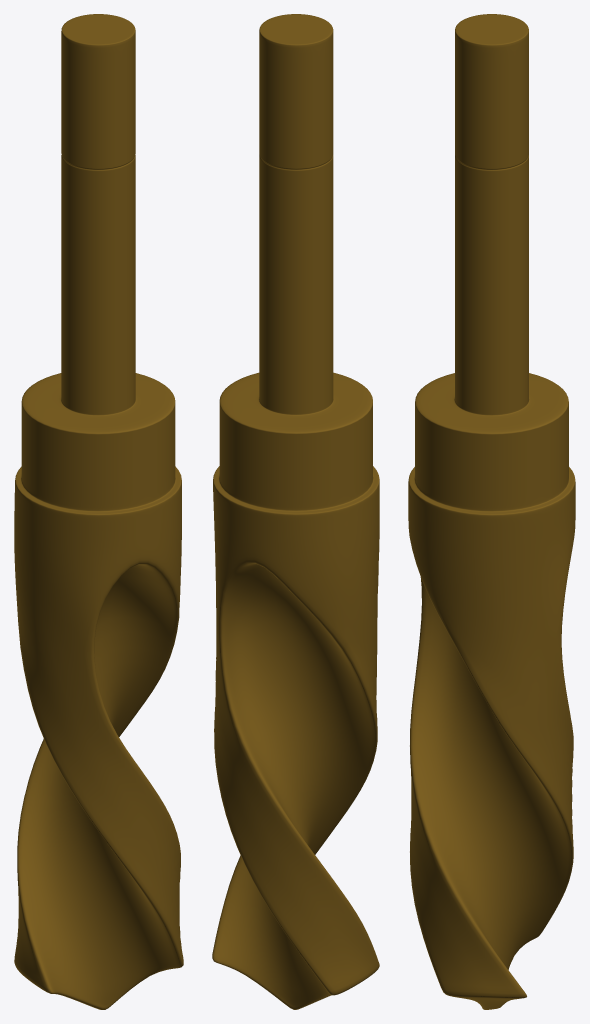
The model's file is 13063_drill_bit_v1_l3.obj.
3 views of the same model, side by side, from view 1: azimuth 30°, elevation 25°; view 2: azimuth 150°, elevation 25°; view 3: azimuth 270°, elevation 25° (orthographic).
Parts seen in each view (by area): view 1: drill_bit_body; view 2: drill_bit_body; view 3: drill_bit_body.
Part boxes in pixels (bbox=[...]): drill_bit_body: bbox=[14, 14, 183, 1009]; drill_bit_body: bbox=[212, 14, 379, 1009]; drill_bit_body: bbox=[408, 14, 575, 1009].
Bounding box in the file's own units: 1.2 × 7.73 × 1.2.
